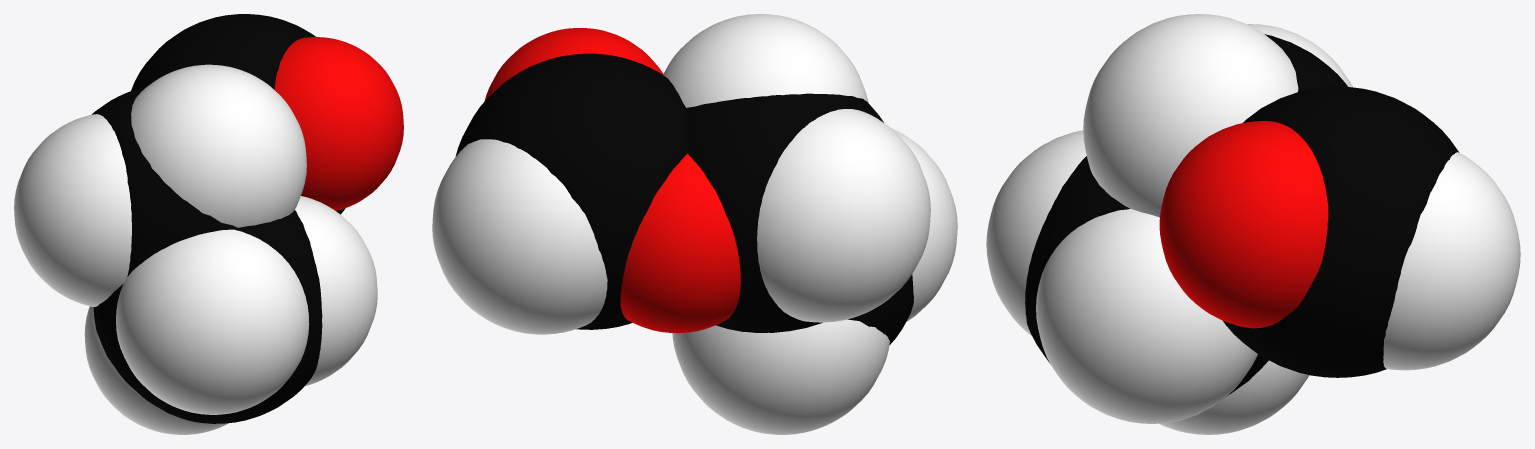
Rendered from metanoatodeetila.obj.
3 renders of one model, left to right at view 1: azimuth 30°, elevation 25°; view 2: azimuth 150°, elevation 25°; view 3: azimuth 270°, elevation 25°, orthographic. The views are drawn at different scales.
Visible parts, largest first — view 1: Hydrogen_ball, Carbon_ball, Oxygen_ball; view 2: Hydrogen_ball, Carbon_ball, Oxygen_ball; view 3: Hydrogen_ball, Carbon_ball, Oxygen_ball.
Boxes of the visible parts, x1,y1,x2,y2 form: Hydrogen_ball: [14, 64, 377, 434]; Carbon_ball: [92, 14, 345, 423]; Oxygen_ball: [274, 37, 403, 210]; Hydrogen_ball: [432, 14, 957, 434]; Carbon_ball: [455, 53, 913, 345]; Oxygen_ball: [484, 28, 740, 333]; Hydrogen_ball: [986, 14, 1520, 434]; Carbon_ball: [1025, 34, 1459, 396]; Oxygen_ball: [1159, 121, 1328, 328].
Bounding box in the file's own units: 3.16 × 2.84 × 3.34.
